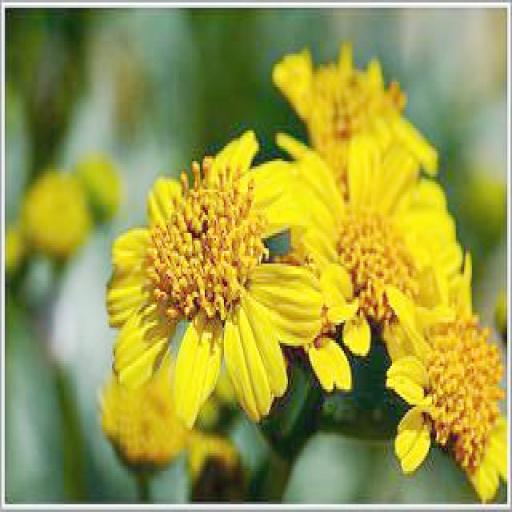sunflower: (110, 136, 328, 417), (275, 131, 474, 384), (390, 289, 506, 502), (272, 49, 442, 169)
